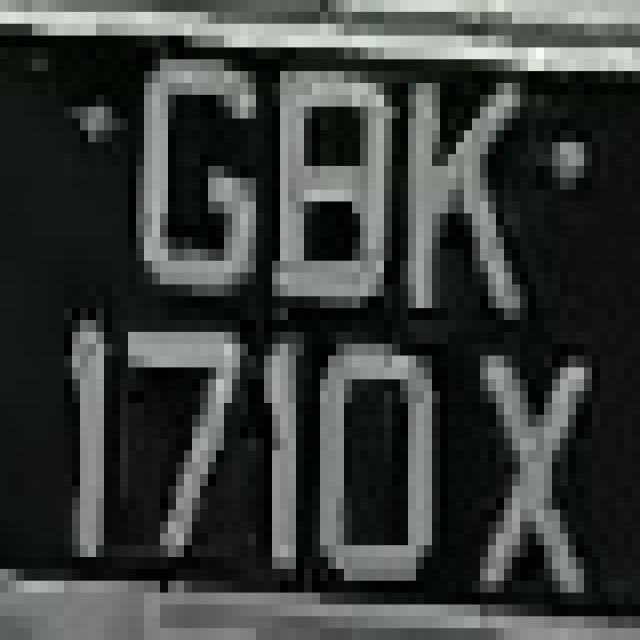0: (312, 320, 440, 593)
1: (48, 296, 120, 581), (248, 296, 312, 581)
7: (104, 272, 232, 569)
B: (264, 47, 400, 320)
G: (112, 36, 264, 308)
K: (392, 47, 536, 320)
X: (472, 308, 592, 616)
